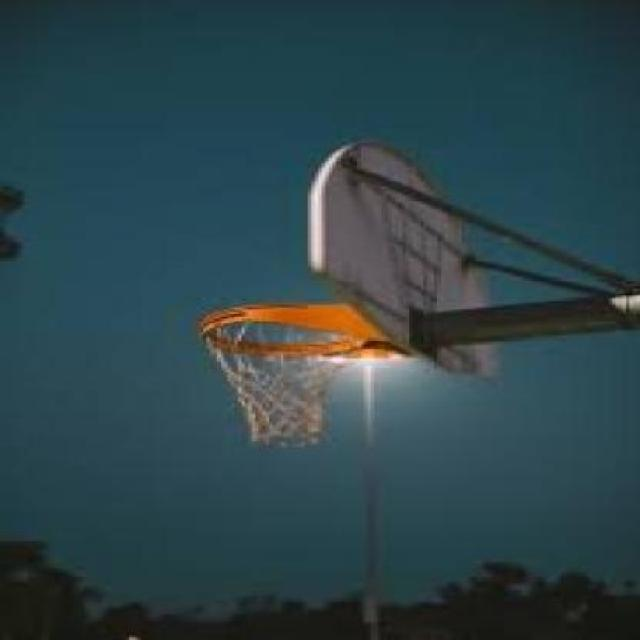rim: (192, 304, 362, 448)
